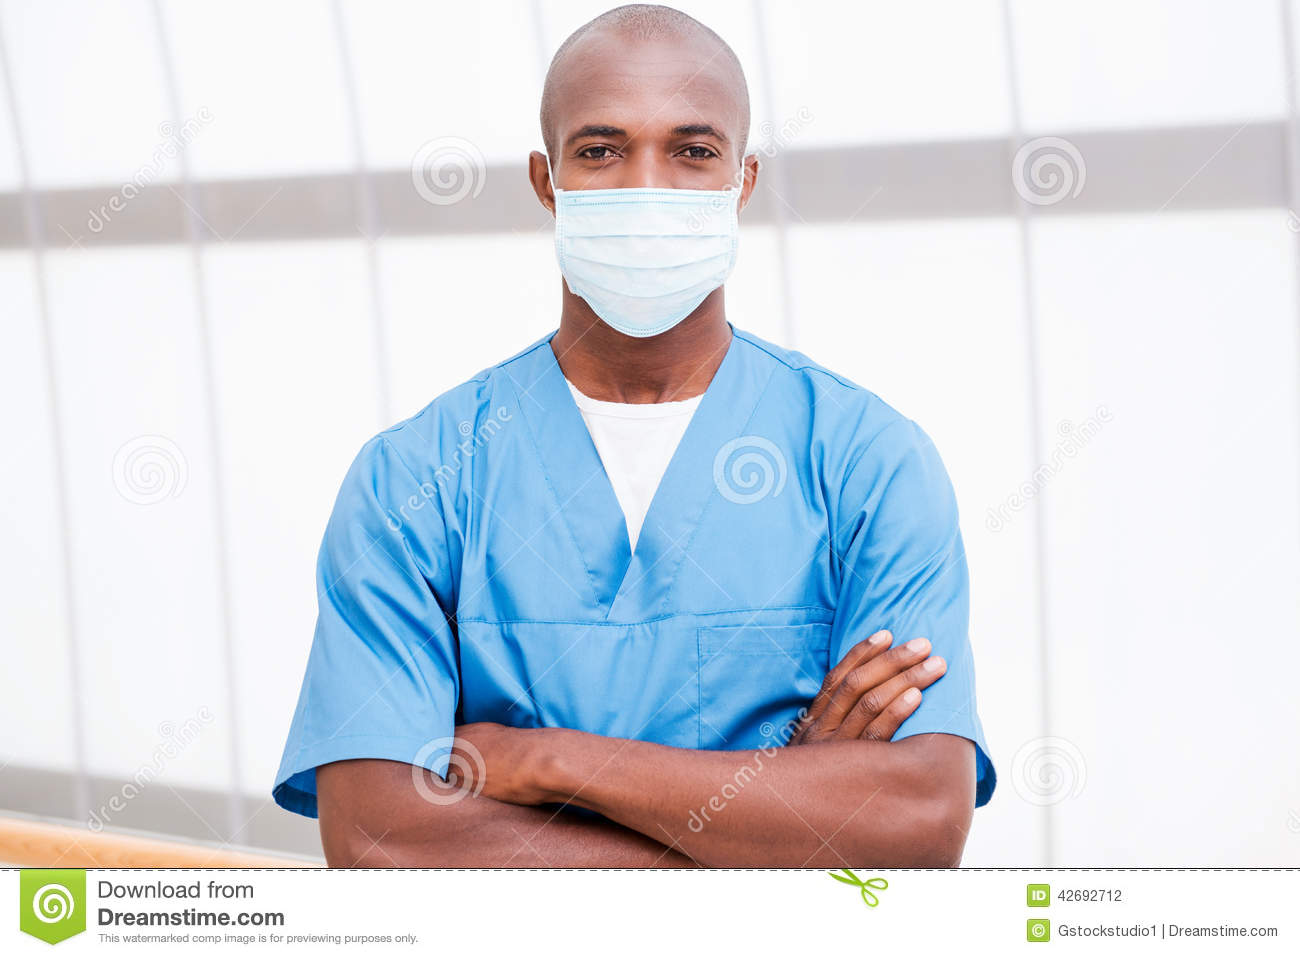mask: (548, 186, 750, 330)
